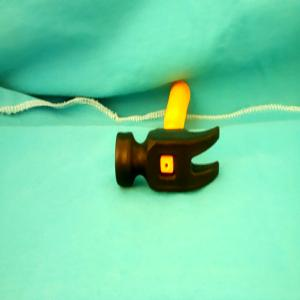martelo: (113, 80, 220, 195)
